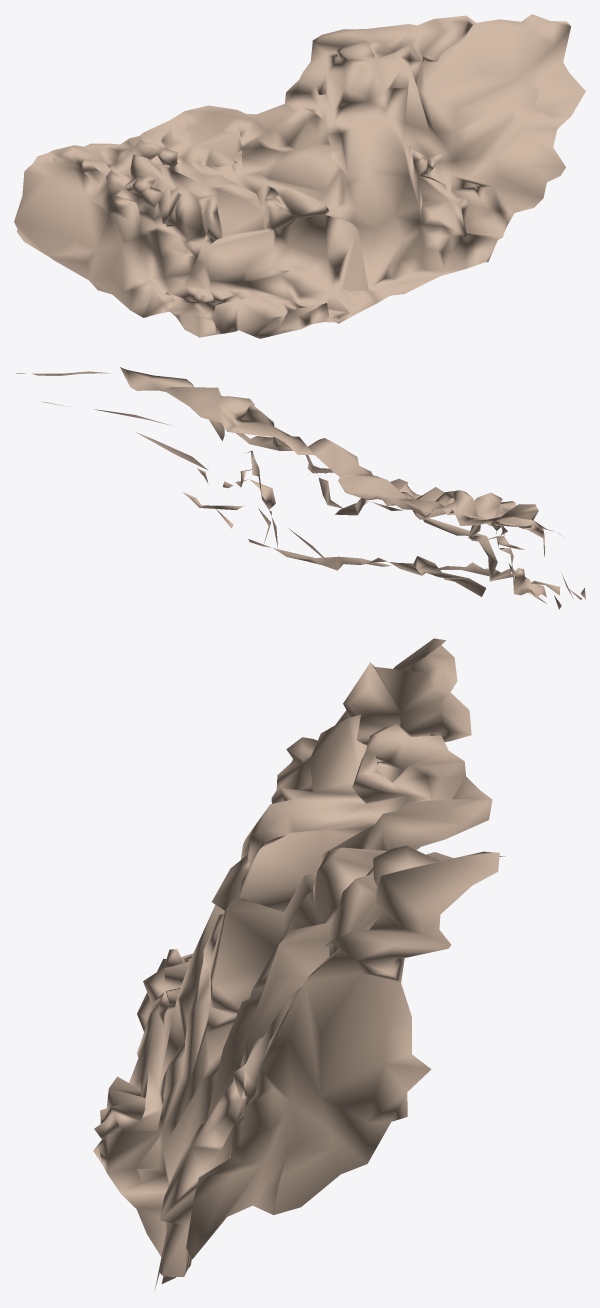
Rendered from rk_cliff.glb.
3 views of the same model, one above another, from view 1: azimuth 30°, elevation 25°; view 2: azimuth 150°, elevation 25°; view 3: azimuth 270°, elevation 25° (orthographic). The views are drawn at different scales.
Parts seen in each view (by area): view 1: drone_rock_02_LOD0; view 2: drone_rock_02_LOD0; view 3: drone_rock_02_LOD0.
Boxes of the visible parts, x1,y1,x2,y2 form: drone_rock_02_LOD0: (14, 14, 585, 338); drone_rock_02_LOD0: (15, 367, 585, 609); drone_rock_02_LOD0: (93, 638, 505, 1291).
Bounding box in the file's own units: 1 × 0.355 × 0.3255.
